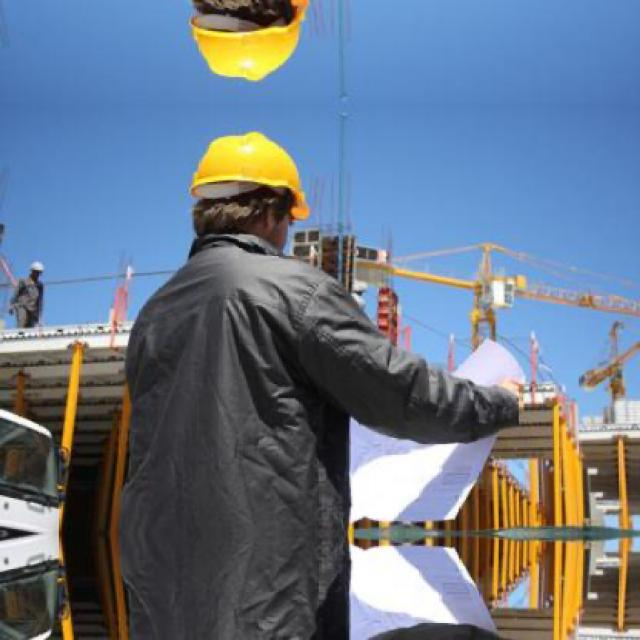helmet: (178, 117, 316, 262), (178, 0, 317, 97), (28, 258, 48, 284)
